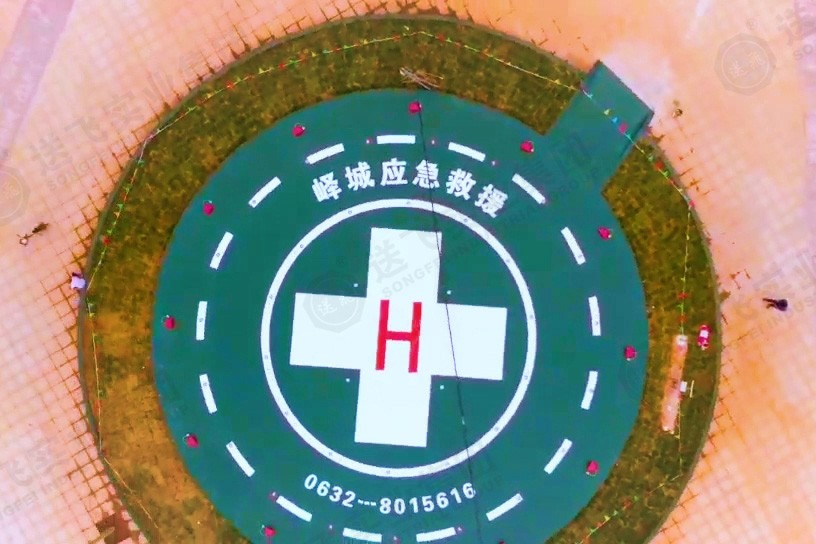Apron: (260, 198, 538, 478)
